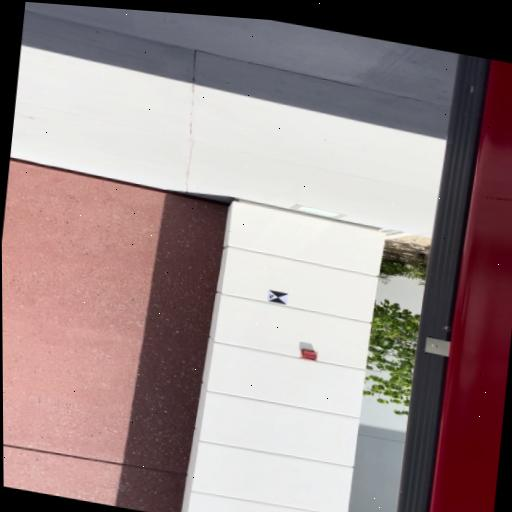target2: (267, 290, 288, 305)
